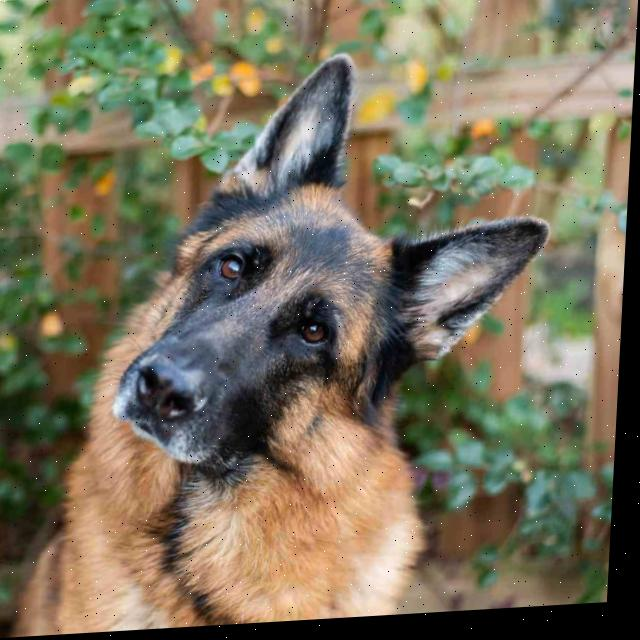GERMAN_SHEPHERD: (6, 36, 575, 639)
